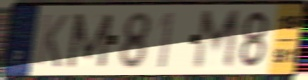1: (157, 10, 175, 70)
8: (238, 8, 273, 71), (118, 10, 153, 71)
K: (33, 12, 70, 70)
M: (191, 7, 243, 73), (64, 12, 116, 70)
